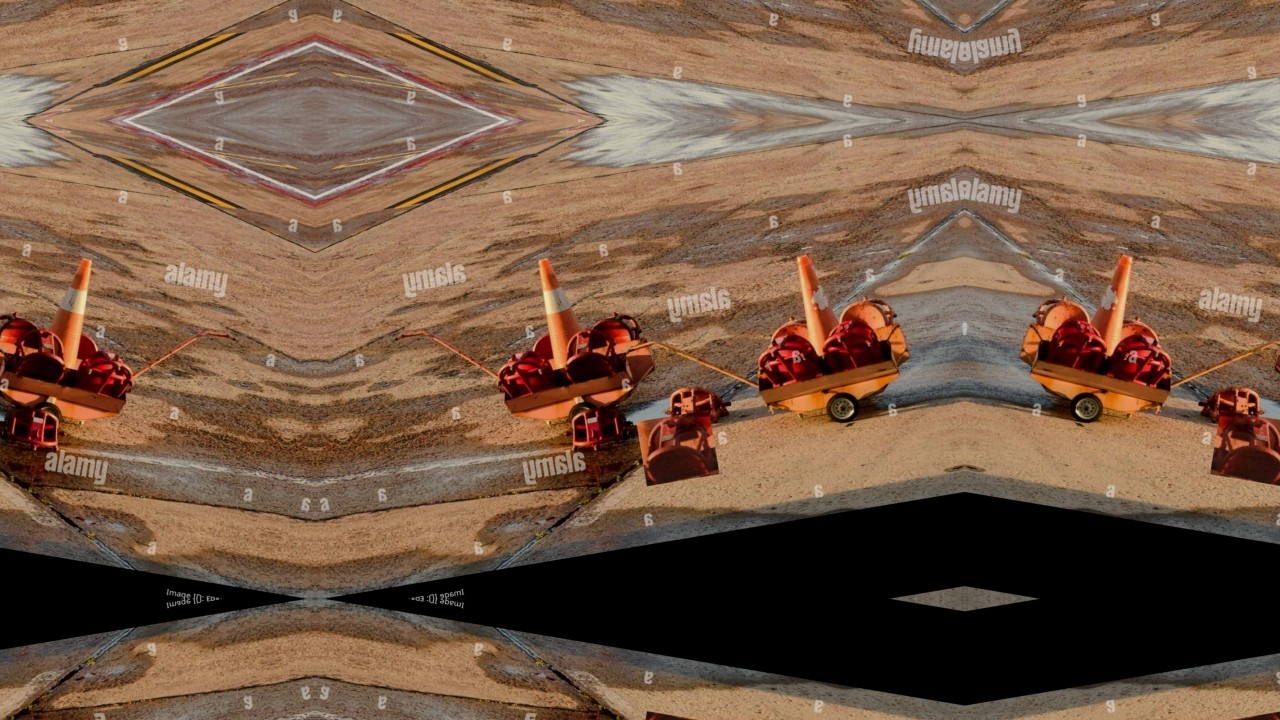chock: (636, 410, 719, 486), (1211, 410, 1280, 486), (751, 327, 822, 390), (1108, 327, 1179, 390), (656, 379, 734, 436), (1196, 379, 1274, 436), (7, 324, 73, 385), (817, 314, 883, 375), (557, 324, 623, 385), (1047, 314, 1113, 375), (74, 348, 137, 402), (493, 348, 556, 402), (565, 402, 632, 451), (0, 402, 65, 451), (835, 291, 897, 335), (1033, 291, 1095, 335), (584, 307, 643, 351), (762, 315, 812, 357), (1118, 315, 1168, 357), (0, 307, 46, 351), (77, 330, 105, 361), (525, 330, 553, 361), (636, 712, 719, 720)
wheel: (823, 390, 862, 426), (1068, 390, 1107, 426), (28, 399, 66, 431), (564, 399, 602, 431)
